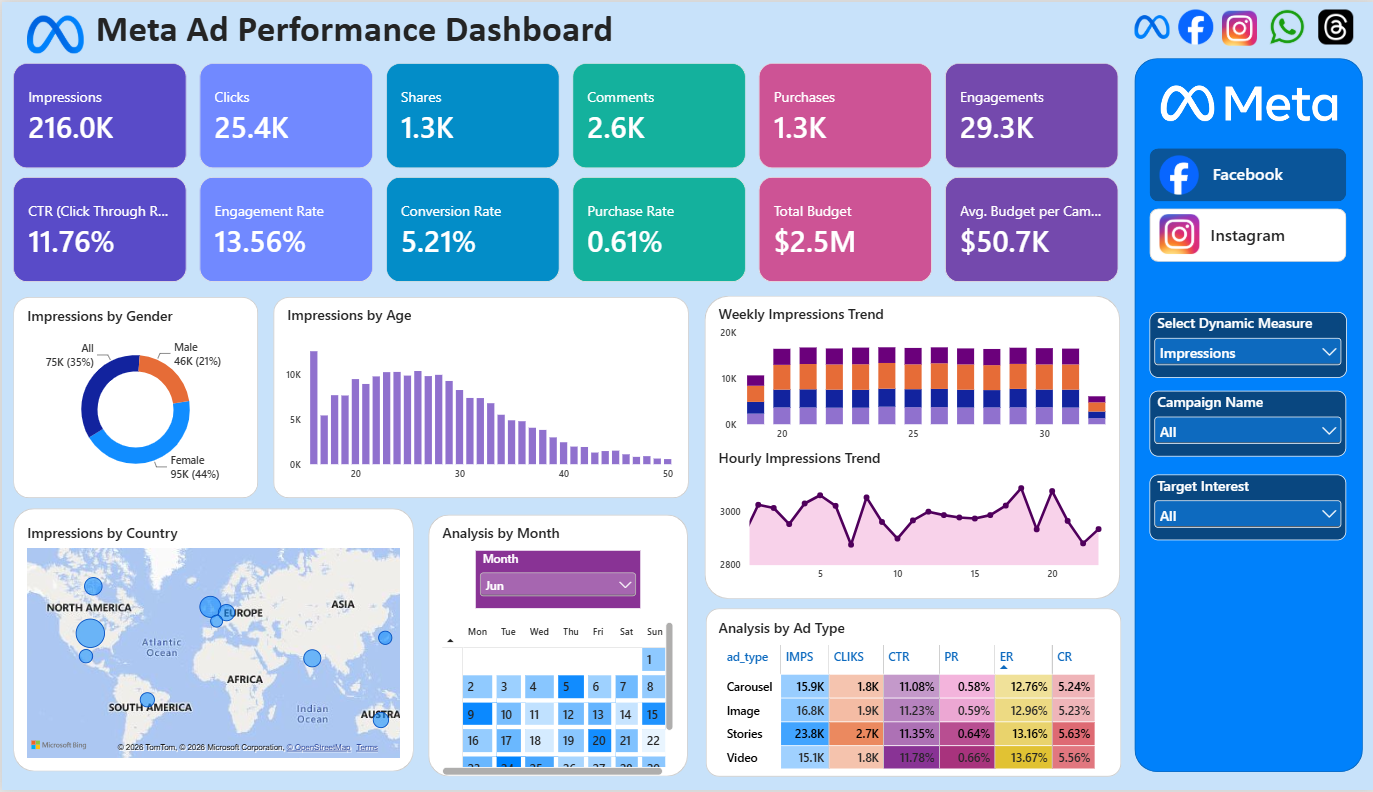

What the dashboard file says about the page in this screenshot:
{"tool":"powerbi","page":{"name":"Facebook","canvas":[1570,900],"ordinal":0},"visuals":[{"type":"textbox","box":[107,4.3,617.6,61.3],"z":0},{"type":"image","box":[28.5,4.3,65,65],"z":1000},{"type":"shape","box":[1293.9,63.7,261,815.8],"z":2000},{"type":"cardVisual","fields":{"Data":["ad_events.Impression","ad_events.Clicks","ad_events.Shares","ad_events.Comments","ad_events.Purchases","ad_events.Engagements"]},"box":[12.8,69.9,1265,120],"z":3000},{"type":"cardVisual","fields":{"Data":["ad_events.CTR (Click Through Rate)","ad_events.Engagement Rate","ad_events.Conversion Rate","ad_events.Purchase Rate","ad_events.Total Budget","ad_events.Avg. Budget per Campaign"]},"box":[12.8,199.7,1265,120],"z":4000},{"type":"slicer","fields":{"Values":["Select Dynamic Measure.Select Dynamic Measure"]},"box":[1312.1,353.7,225.3,75.6],"z":5000},{"type":"shape","box":[12.8,336.6,280,230],"z":6000},{"type":"donutChart","fields":{"Category":["ads.target_gender"],"Y":["ad_events.Impressions"]},"box":[13,367.6,279.5,198.2],"z":7000},{"type":"cardVisual","fields":{"Data":["ad_events.Gender Title"]},"box":[13.5,336.6,266.7,41.4],"z":8000},{"type":"shape","box":[309.5,336.6,475,230],"z":9000},{"type":"columnChart","fields":{"Category":["users.user_age"],"Y":["ad_events.Impressions"]},"box":[309.2,375.4,474.9,191.1],"z":10000},{"type":"cardVisual","fields":{"Data":["ad_events.Age Title"]},"box":[309.5,335.2,266.7,42.8],"z":11000},{"type":"shape","box":[13,578.1,457.8,300.9],"z":12000},{"type":"map","fields":{"Category":["users.country"],"Size":["ad_events.Impressions"]},"box":[13,610.6,457.8,269.6],"z":13000},{"type":"cardVisual","fields":{"Data":["ad_events.Map Title"]},"box":[12.9,584.3,266.7,42.8],"z":14000},{"type":"shape","box":[487.8,586.2,296.7,299.5],"z":15000},{"type":"pivotTable","fields":{"Columns":["Calender Table.Day Name"],"Rows":["Calender Table.Week Number"],"Values":["Min(Calender Table.Day Number)"]},"box":[487.2,693.7,296.2,205.3],"z":16000},{"type":"slicer","fields":{"Values":["Calender Table.Month"]},"box":[542,627.5,188.3,65.6],"z":17000},{"type":"cardVisual","fields":{"Data":["ad_events.Calender Title"]},"box":[487.8,584.8,242.5,42.8],"z":18000},{"type":"shape","box":[803,335.2,474.9,346.6],"z":19000},{"type":"columnChart","fields":{"Category":["Calender Table.Week Number"],"Series":["ads.ad_type"],"Y":["ad_events.Impressions"]},"box":[804.4,353.7,474.9,166.9],"z":20000},{"type":"cardVisual","fields":{"Data":["ad_events.Weekly Title"]},"box":[803,336.6,238.2,38.5],"z":21000},{"type":"areaChart","fields":{"Category":["ad_events.Event Hour"],"Y":["ad_events.Impressions"]},"box":[804.4,529.1,474.9,152.6],"z":22000},{"type":"cardVisual","fields":{"Data":["ad_events.Hourly Title"]},"box":[803,499.2,238.2,42.8],"z":23000},{"type":"shape","box":[804.4,693.2,474.9,192.5],"z":24000},{"type":"pivotTable","fields":{"Rows":["ads.ad_type"],"Values":["ad_events.Impressions","ad_events.Clicks","ad_events.CTR (Click Through Rate)","ad_events.Purchase Rate","ad_events.Engagement Rate","ad_events.Conversion Rate"]},"box":[806.7,719.7,473.5,181.1],"z":25000},{"type":"cardVisual","fields":{"Data":["ad_events.Ad Title"]},"box":[803,693.2,242.5,42.8],"z":26000},{"type":"image","box":[1323.8,85.7,201.4,59.8],"z":27000},{"type":"slicer","fields":{"Values":["campaigns.name"]},"box":[1312.1,445,225,75],"z":28000},{"type":"slicer","fields":{"Values":["ads.target_interests"]},"box":[1312.1,540.5,225,75],"z":29000},{"type":"pageNavigator","box":[1312.1,166.9,225.3,130],"z":29001},{"type":"image","box":[1323.6,232.5,45.6,64.2],"z":29002},{"type":"image","box":[1322.5,166.3,45,64],"z":29003},{"type":"image","box":[1504.7,8.6,40,40],"z":29004},{"type":"image","box":[1449.1,8.6,40,40],"z":29005},{"type":"image","box":[1394.9,10,40,40],"z":29006},{"type":"image","box":[1344.9,8.6,40,40],"z":29007},{"type":"image","box":[1293.6,8.6,40,40],"z":29008}]}

Visuals, with their boxes in screenshot pixels (x1, y1, x2, y2), scaled from the page's 1570x900 canvas onto the 1373x792 screenshot:
textbox: l=94, t=4, r=634, b=58
image: l=25, t=4, r=82, b=61
shape: l=1132, t=56, r=1360, b=774
cardVisual - ad_events.Impression x ad_events.Clicks: l=11, t=62, r=1117, b=167
cardVisual - ad_events.CTR (Click Through Rate) x ad_events.Engagement Rate: l=11, t=176, r=1117, b=281
slicer - Select Dynamic Measure.Select Dynamic Measure: l=1147, t=311, r=1344, b=378
shape: l=11, t=296, r=256, b=499
donutChart - ads.target_gender x ad_events.Impressions: l=11, t=323, r=256, b=498
cardVisual - ad_events.Gender Title: l=12, t=296, r=245, b=333
shape: l=271, t=296, r=686, b=499
columnChart - users.user_age x ad_events.Impressions: l=270, t=330, r=686, b=499
cardVisual - ad_events.Age Title: l=271, t=295, r=504, b=333
shape: l=11, t=509, r=412, b=774
map - users.country x ad_events.Impressions: l=11, t=537, r=412, b=775
cardVisual - ad_events.Map Title: l=11, t=514, r=245, b=552
shape: l=427, t=516, r=686, b=779
pivotTable - Calender Table.Day Name x Calender Table.Week Number: l=426, t=610, r=685, b=791
slicer - Calender Table.Month: l=474, t=552, r=639, b=610
cardVisual - ad_events.Calender Title: l=427, t=515, r=639, b=552
shape: l=702, t=295, r=1118, b=600
columnChart - Calender Table.Week Number x ads.ad_type: l=703, t=311, r=1119, b=458
cardVisual - ad_events.Weekly Title: l=702, t=296, r=911, b=330
areaChart - ad_events.Event Hour x ad_events.Impressions: l=703, t=466, r=1119, b=600
cardVisual - ad_events.Hourly Title: l=702, t=439, r=911, b=477
shape: l=703, t=610, r=1119, b=779
pivotTable - ads.ad_type x ad_events.Impressions: l=705, t=633, r=1120, b=791
cardVisual - ad_events.Ad Title: l=702, t=610, r=914, b=648
image: l=1158, t=75, r=1334, b=128
slicer - campaigns.name: l=1147, t=392, r=1344, b=458
slicer - ads.target_interests: l=1147, t=476, r=1344, b=542
pageNavigator: l=1147, t=147, r=1344, b=261
image: l=1158, t=205, r=1197, b=261
image: l=1157, t=146, r=1196, b=203
image: l=1316, t=8, r=1351, b=43
image: l=1267, t=8, r=1302, b=43
image: l=1220, t=9, r=1255, b=44
image: l=1176, t=8, r=1211, b=43
image: l=1131, t=8, r=1166, b=43
